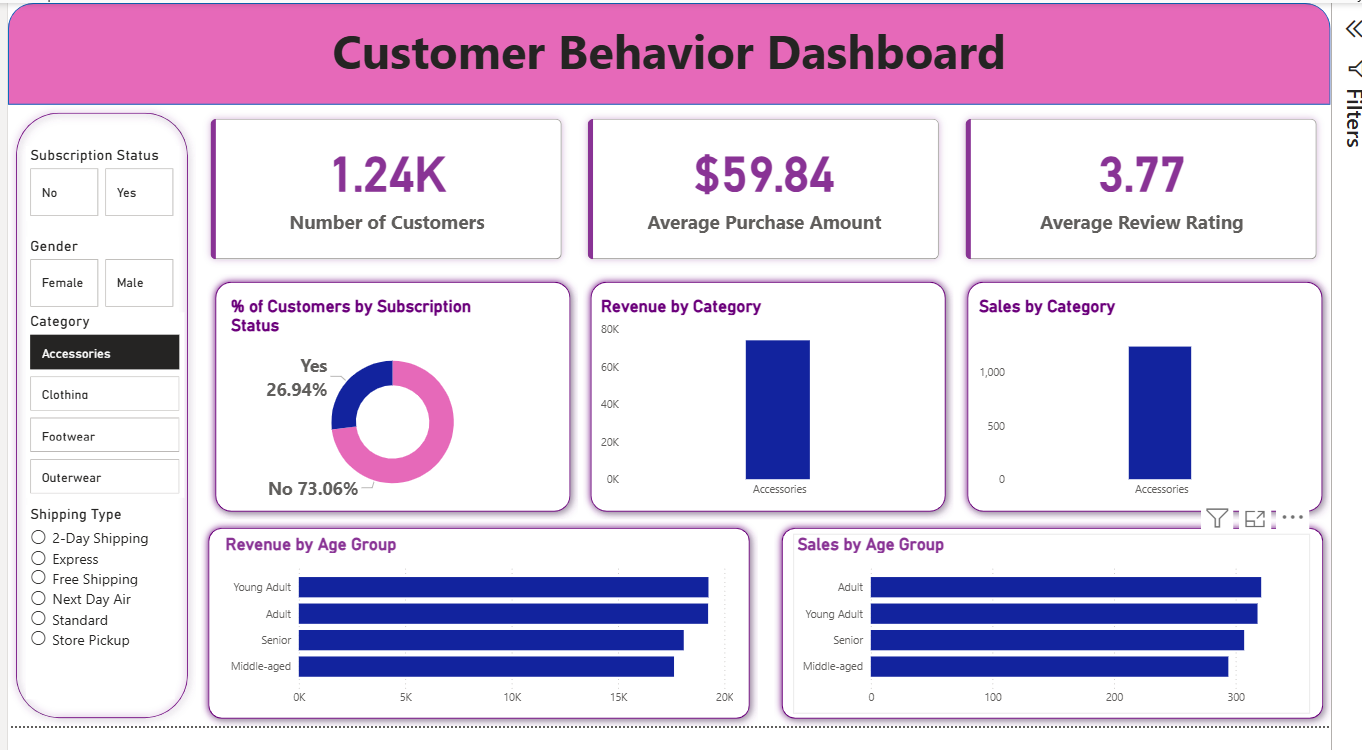

The page's visual inventory and layout, read from the dashboard file:
{"tool":"powerbi","page":{"name":"Page 1","canvas":[1500,820],"ordinal":0},"visuals":[{"type":"cardVisual","fields":{"Data":["public customer.Number of Customers","public customer.Average Purchase Amount","public customer.Average Review Rating"]},"box":[212.9,115.3,1286.5,191.6],"z":2000},{"type":"shape","box":[218.3,585.6,631.7,234.2],"z":2500,"group":"g1"},{"type":"shape","box":[0,0,1499.4,115.3],"z":3000},{"type":"textbox","box":[0,12.4,1499.4,102.9],"z":4000},{"type":"shape","box":[225.4,307,420.5,278.6],"z":5000},{"type":"donutChart","title":"% of Customers by Subscription Status","fields":{"Category":["public customer.subscription_status"],"Y":["CountNonNull(public customer.customer_id)"]},"box":[248.4,331.8,376.2,237.8],"z":6000},{"type":"shape","box":[1078.9,307,420.5,278.6],"z":7000},{"type":"shape","box":[652.1,307,420.5,278.6],"z":8000},{"type":"clusteredColumnChart","title":"Revenue by Category","fields":{"Y":["Sum(public customer.purchase_amount)"],"Category":["public customer.category"]},"box":[667.2,331.8,385.1,237.8],"z":9000},{"type":"clusteredColumnChart","title":"Sales by Category","fields":{"Y":["CountNonNull(public customer.customer_id)"],"Category":["public customer.category"]},"box":[1096.6,331.8,385.1,237.8],"z":10000},{"type":"shape","box":[0,115.3,212.9,704.5],"z":11000},{"type":"advancedSlicerVisual","fields":{"Values":["public customer.subscription_status"]},"box":[19.5,161.5,173.9,85.2],"z":12000},{"type":"advancedSlicerVisual","fields":{"Values":["public customer.gender"]},"box":[19.5,264.4,173.9,85.2],"z":13000},{"type":"advancedSlicerVisual","fields":{"Values":["public customer.category"]},"box":[20.3,350.8,179.3,210.5],"z":14000},{"type":"listSlicer","fields":{"Values":["public customer.shipping_type"]},"box":[19.5,569.6,168.6,220],"z":15000},{"type":"shape","box":[867.7,585.6,631.7,234.2],"z":16000},{"type":"clusteredBarChart","title":"Sales by Age Group","fields":{"Y":["CountNonNull(public customer.customer_id)"],"Category":["public customer.age_group"]},"box":[890.8,601.5,585.6,204.1],"z":17000},{"type":"clusteredBarChart","title":"Revenue by Age Group","fields":{"Y":["Sum(public customer.purchase_amount)"],"Category":["public customer.age_group"]},"box":[241.4,601.6,585.6,204.1],"z":17500,"group":"g1"},{"type":"group","id":"g1","title":"Group 1","box":[218.3,585.6,631.7,234.2],"z":17501}]}

Visuals, with their boxes on the page's 1500x820 design canvas (x1, y1, x2, y2). These are canvas units, not pixel positions in the 1362x750 screenshot, which may show the page scaled, cropped or inside an application window:
cardVisual - public customer.Number of Customers x public customer.Average Purchase Amount: rect(213, 115, 1499, 307)
shape: rect(218, 586, 850, 820)
shape: rect(0, 0, 1499, 115)
textbox: rect(0, 12, 1499, 115)
shape: rect(225, 307, 646, 586)
"% of Customers by Subscription Status" donutChart: rect(248, 332, 625, 570)
shape: rect(1079, 307, 1499, 586)
shape: rect(652, 307, 1073, 586)
"Revenue by Category" clusteredColumnChart: rect(667, 332, 1052, 570)
"Sales by Category" clusteredColumnChart: rect(1097, 332, 1482, 570)
shape: rect(0, 115, 213, 820)
advancedSlicerVisual - public customer.subscription_status: rect(20, 162, 193, 247)
advancedSlicerVisual - public customer.gender: rect(20, 264, 193, 350)
advancedSlicerVisual - public customer.category: rect(20, 351, 200, 561)
listSlicer - public customer.shipping_type: rect(20, 570, 188, 790)
shape: rect(868, 586, 1499, 820)
"Sales by Age Group" clusteredBarChart: rect(891, 602, 1476, 806)
"Revenue by Age Group" clusteredBarChart: rect(241, 602, 827, 806)
"Group 1" group: rect(218, 586, 850, 820)
